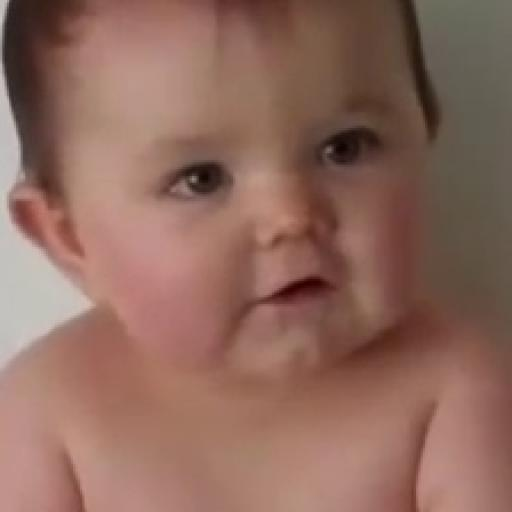Autism: (7, 14, 512, 488)
